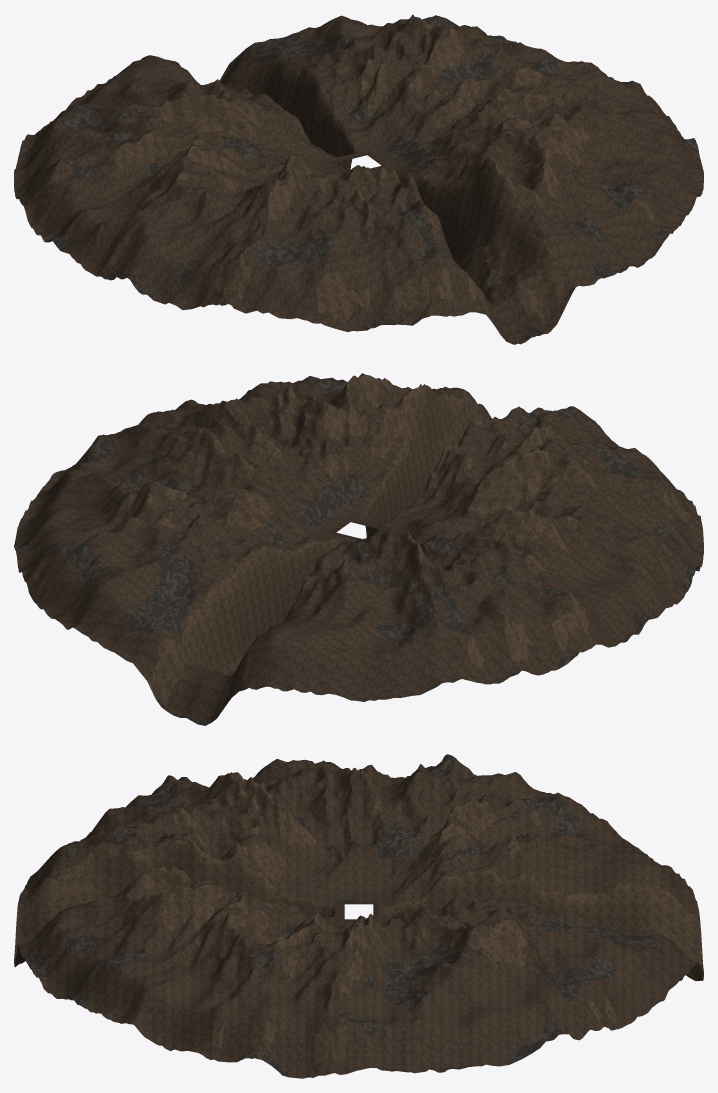
The model's file is backdrop_near_rect_desert_dead.glb.
3 views of the same model, one above another, from view 1: azimuth 30°, elevation 25°; view 2: azimuth 150°, elevation 25°; view 3: azimuth 270°, elevation 25° (orthographic).
Visible parts, largest first — view 1: near_land_S, near_land_W, near_land_E, near_land_N; view 2: near_land_N, near_land_W, near_land_E, near_land_S; view 3: near_land_E, near_land_S, near_land_N, near_land_W.
Part boxes in pixels (x1,y1,x2,y2): near_land_S: (269,116,691,344); near_land_W: (14,93,344,313); near_land_E: (364,17,703,210); near_land_N: (26,14,440,170); near_land_N: (26,497,449,725); near_land_W: (377,447,703,684); near_land_E: (14,381,356,581); near_land_S: (277,373,687,538); near_land_E: (114,894,601,1078); near_land_S: (14,795,344,1021); near_land_N: (378,798,703,1030); near_land_W: (139,754,601,905).
Size of the model in its own units: 576 by 168 by 576.
Materials: 3 (3 with a texture image).
